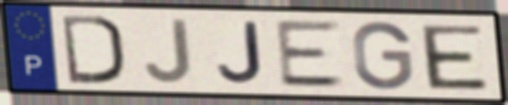D: (58, 12, 128, 86)
E: (272, 19, 348, 89), (417, 24, 492, 93)
G: (350, 19, 416, 92)
J: (141, 17, 195, 85), (215, 19, 267, 86)
